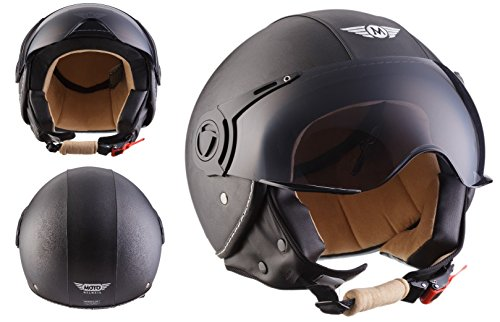with_helmet: (186, 10, 492, 272), (14, 3, 161, 149), (19, 164, 160, 307)
